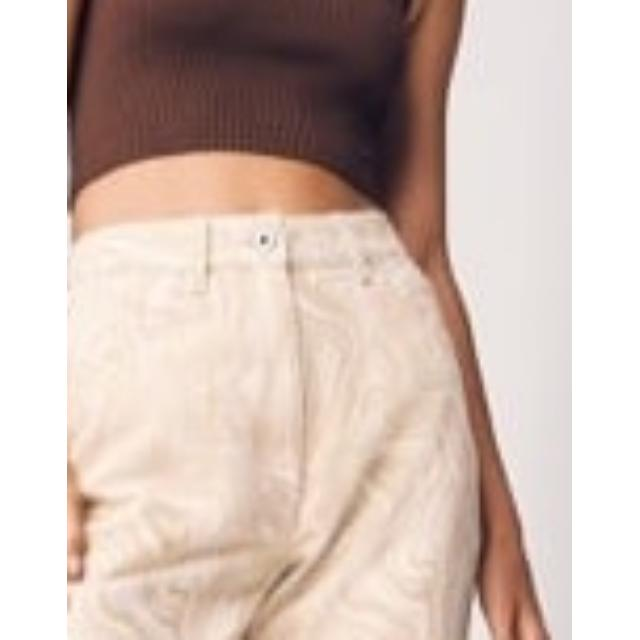cotton: (105, 1, 408, 198)
